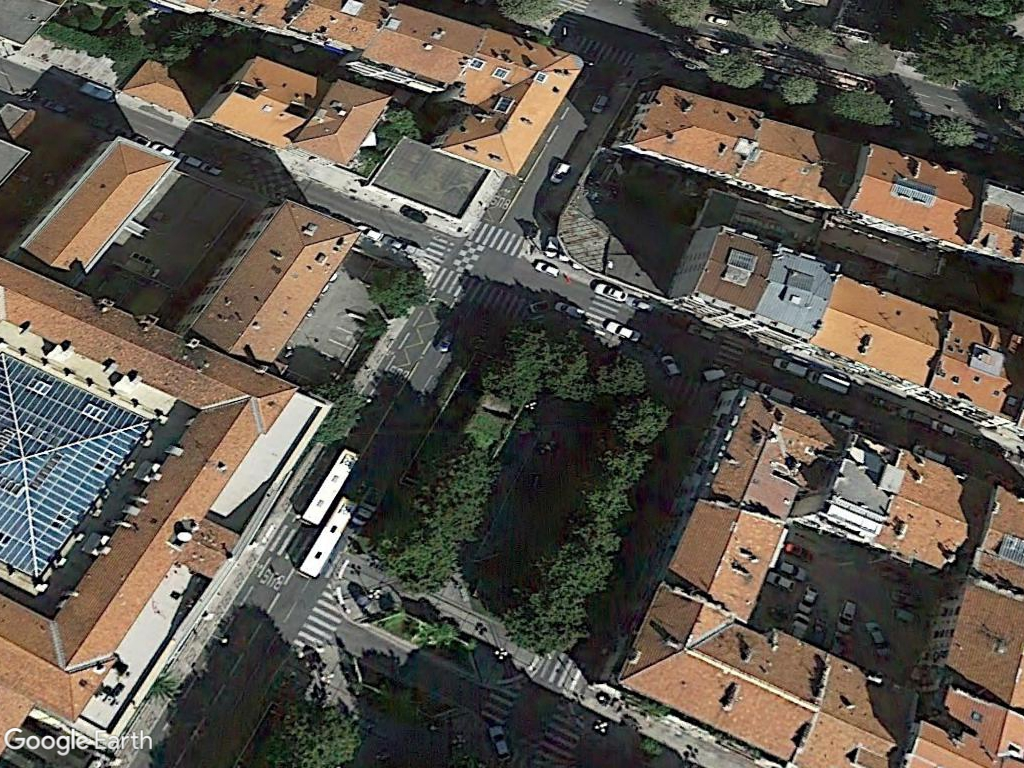car: (591, 275, 634, 305)
van: (772, 349, 811, 380)
